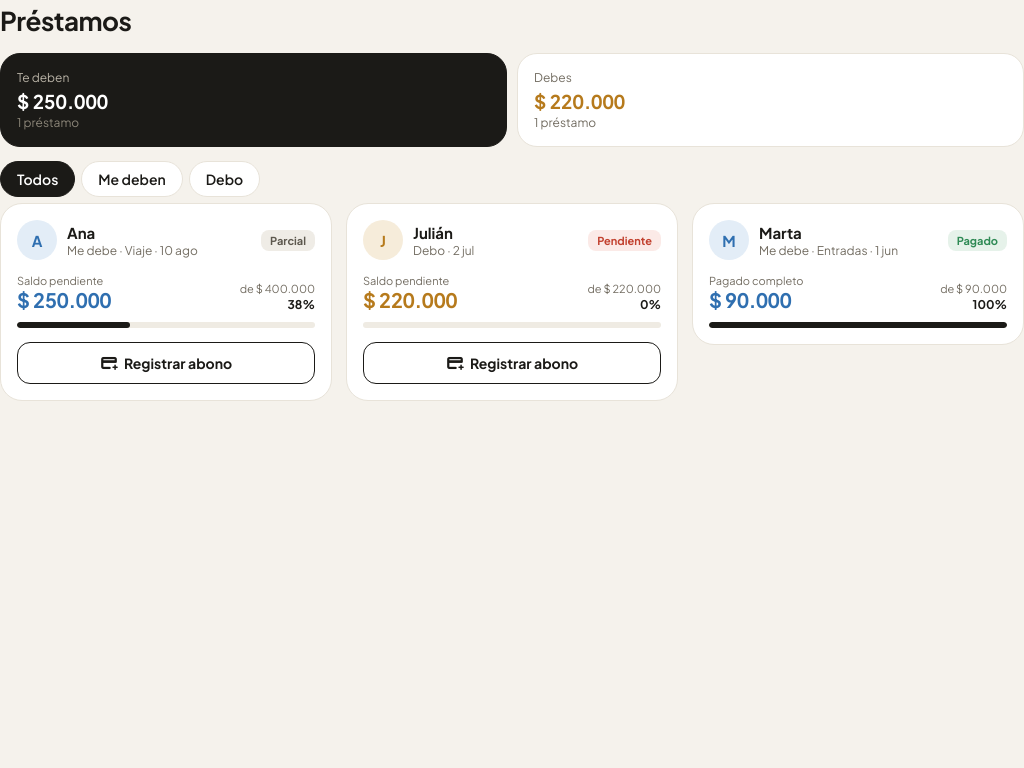
Test case: Préstamos › el boton de abonar abre el sheet y no el detalle
Expected: the text "Ana" is shown, [67,222,95,242]
Click the 1st button "Registrar abono" at (166, 363), box [17,342,315,384]
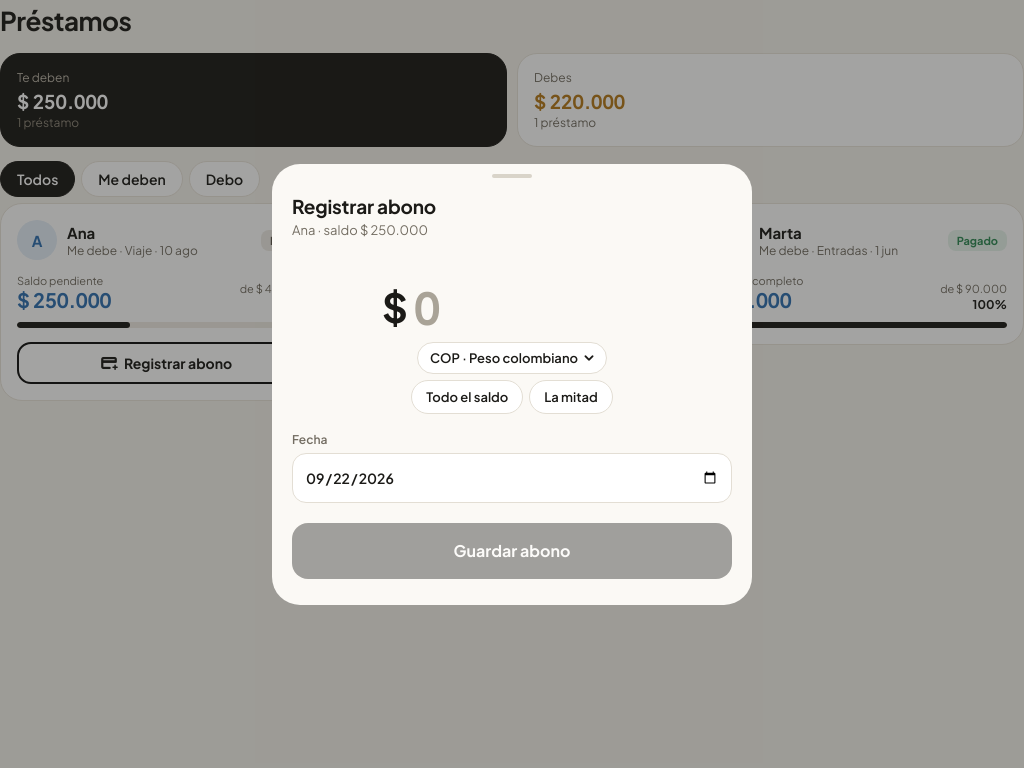
Expected: the dialog "Registrar abono" is shown, [272,164,752,604]
